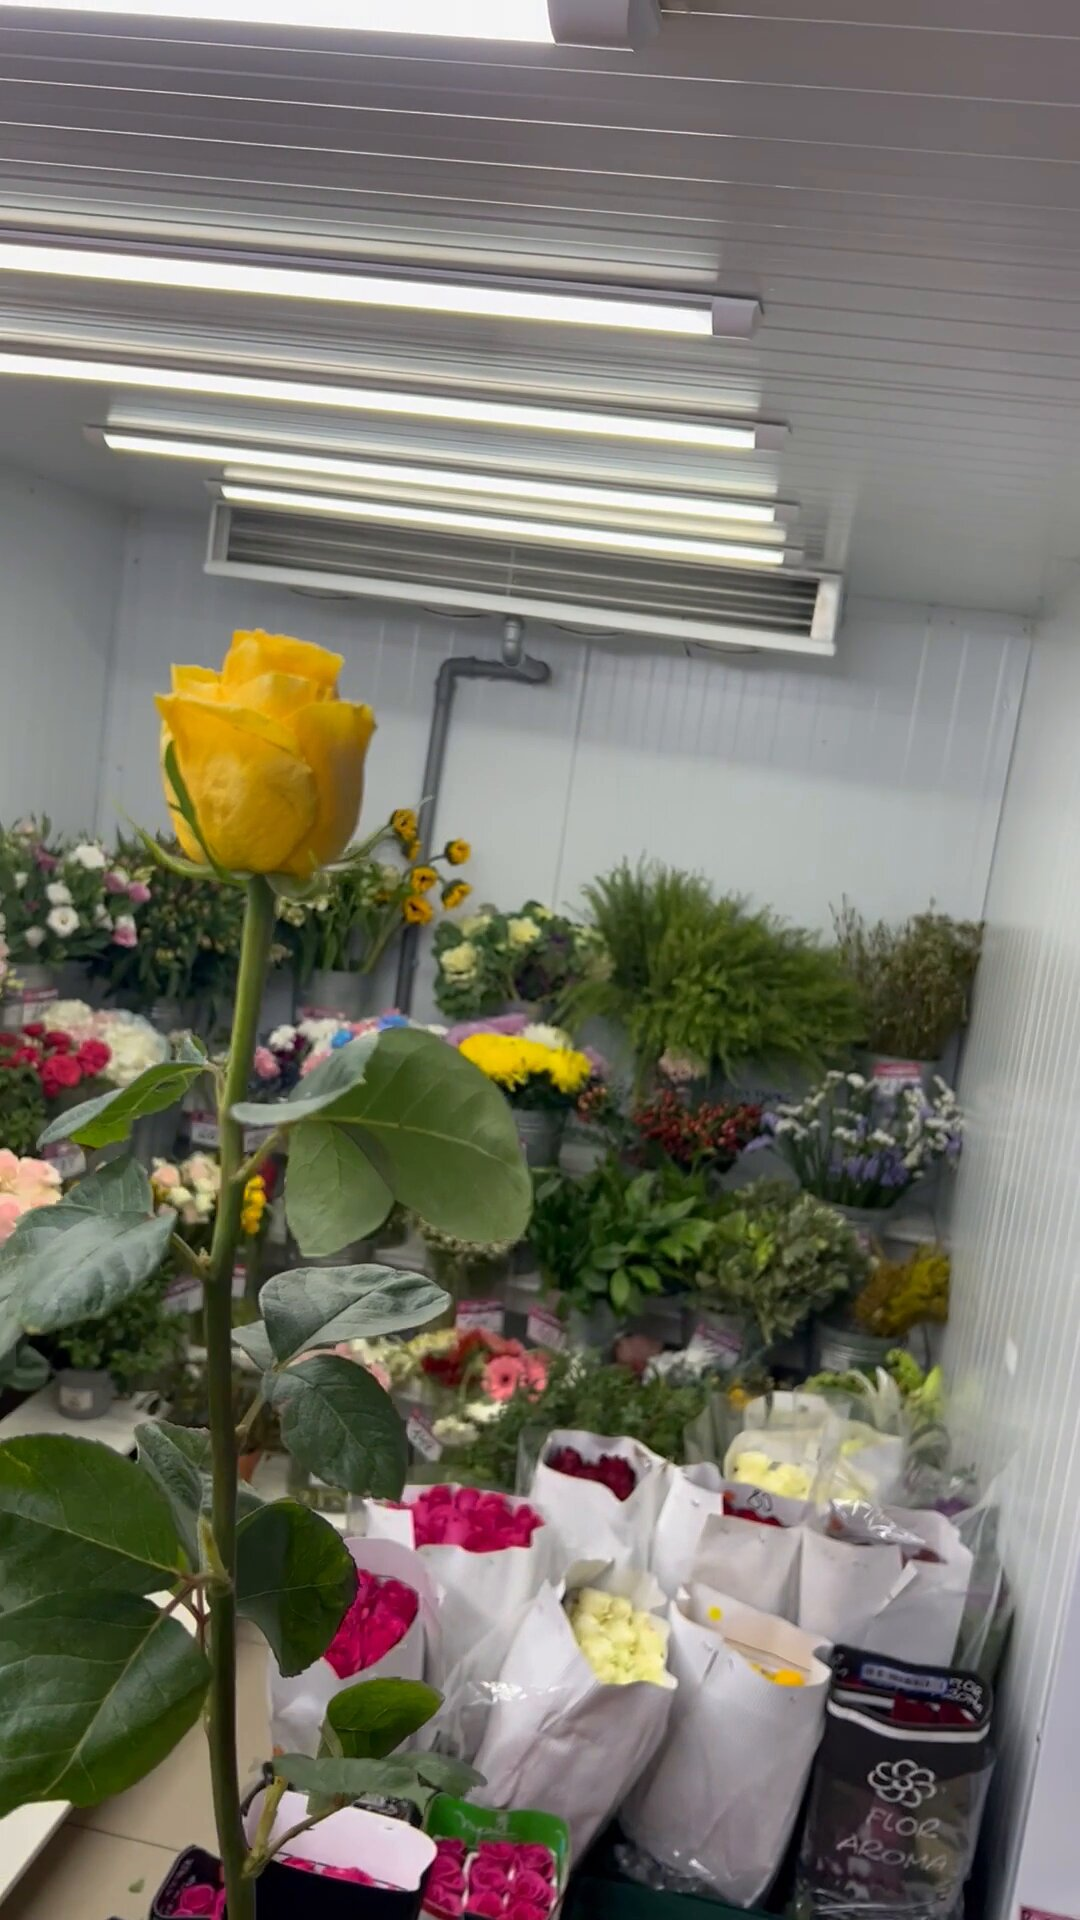rose: (50, 593, 516, 1920)
